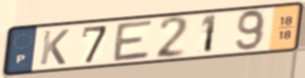1: (199, 13, 219, 56)
2: (153, 13, 190, 63)
7: (80, 24, 110, 65)
9: (233, 8, 268, 53)
E: (111, 18, 156, 64)
K: (38, 28, 72, 67)
